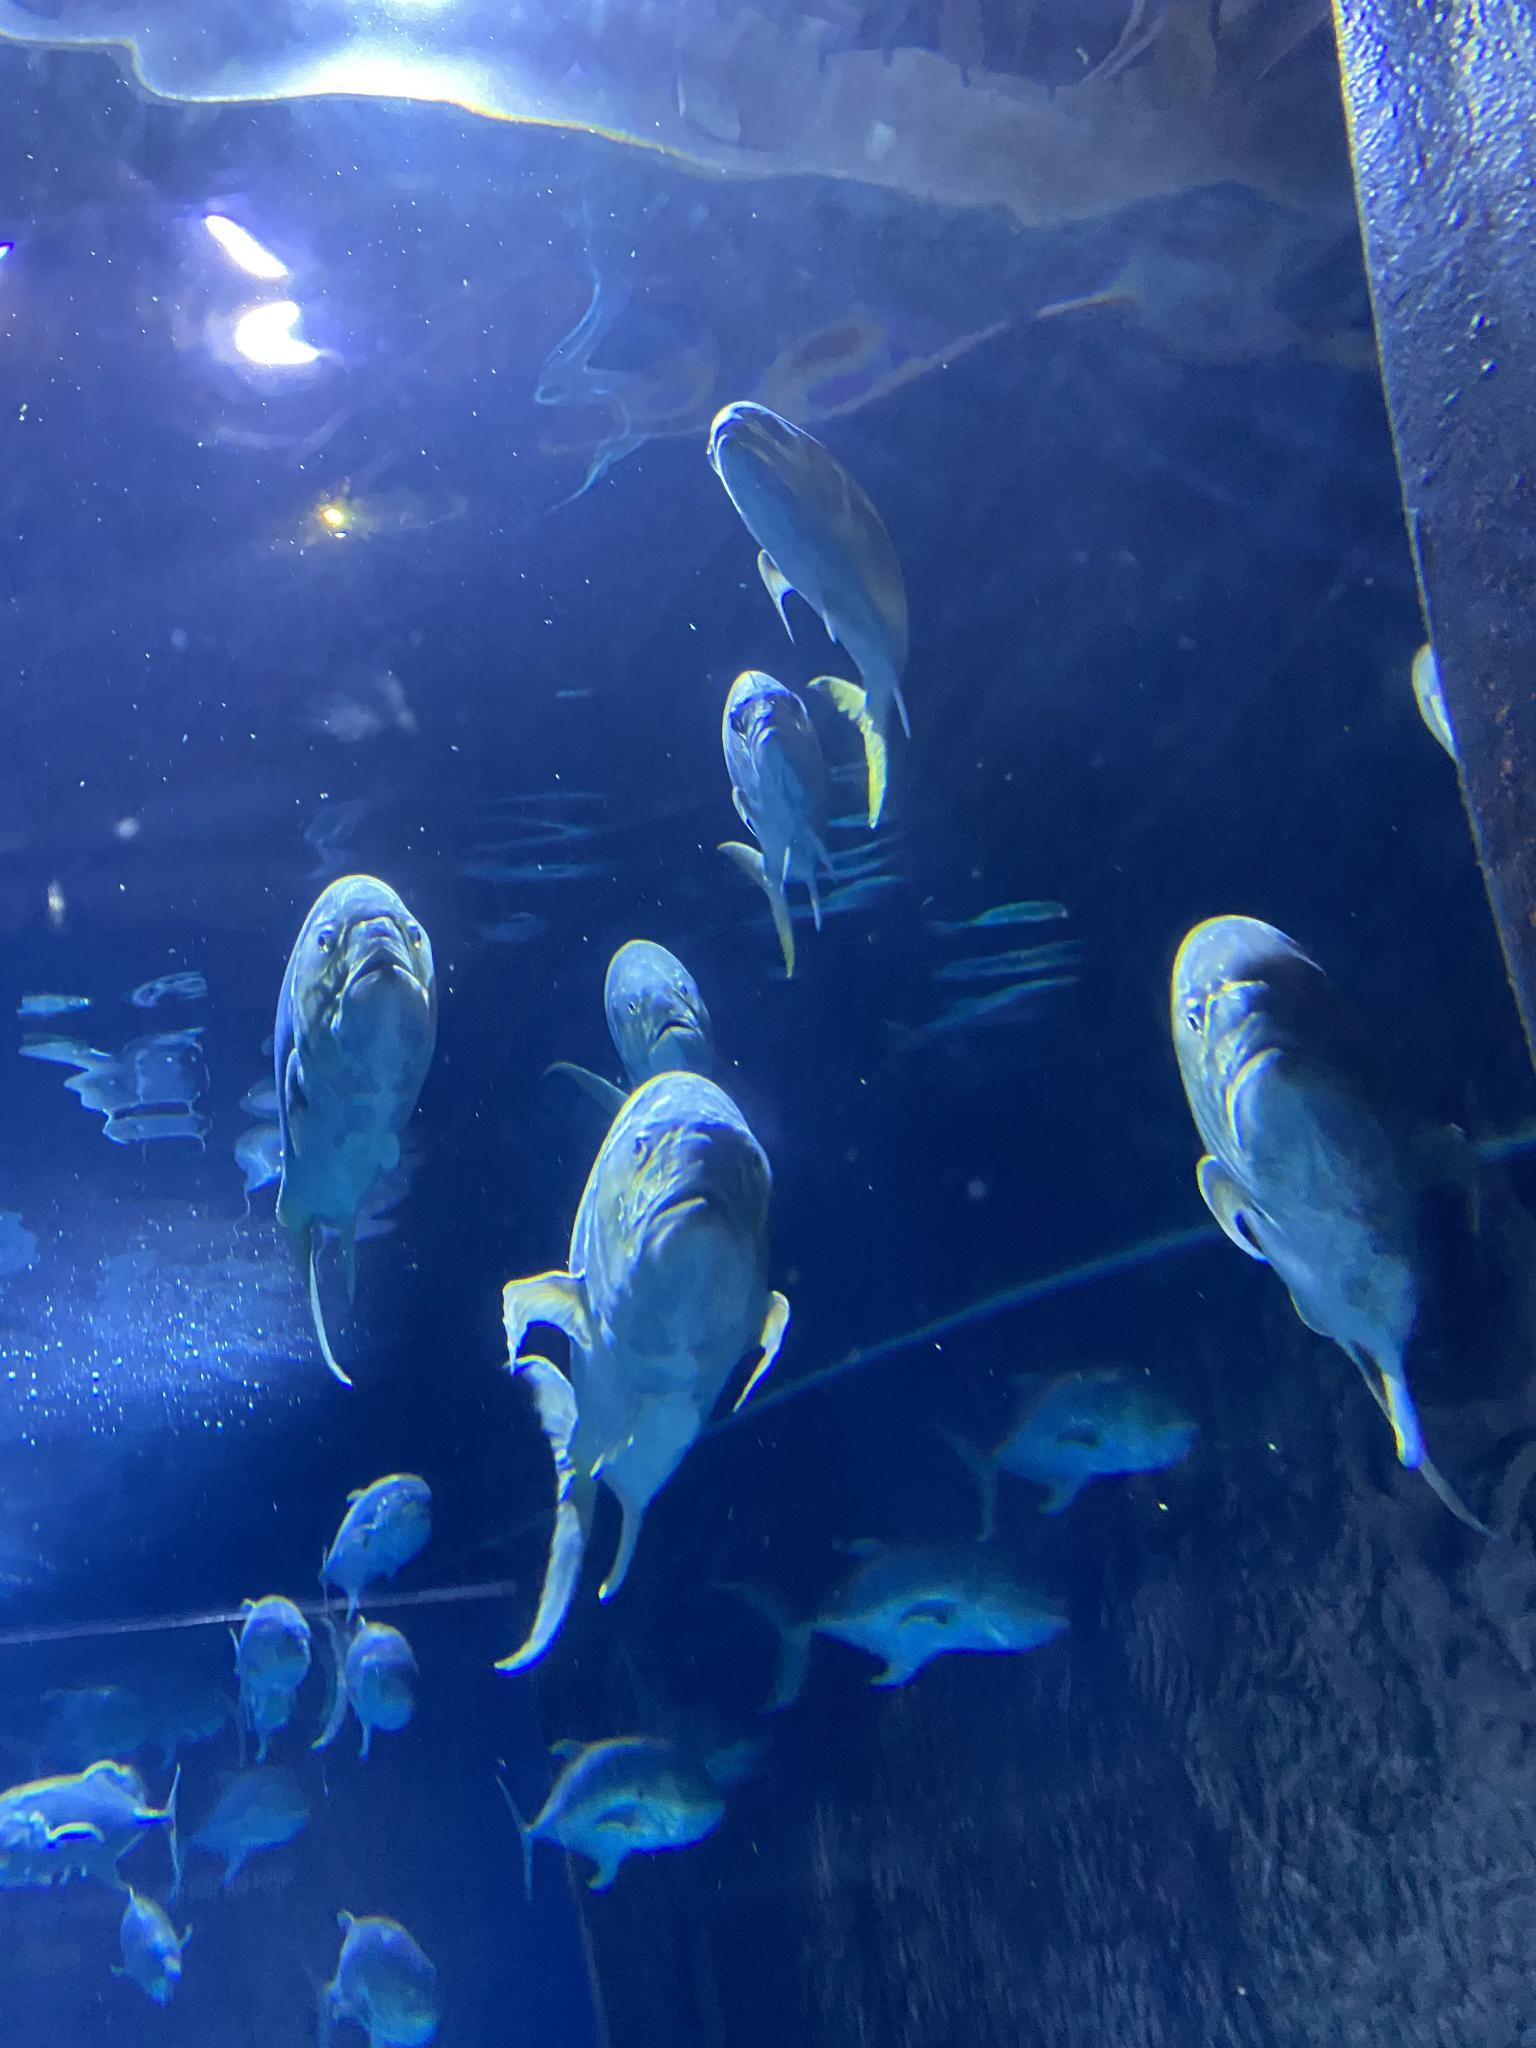fish: (494, 1071, 786, 1671), (1171, 913, 1442, 1464), (707, 402, 913, 827), (273, 876, 432, 1384), (710, 1543, 1066, 1709), (944, 1364, 1191, 1538), (716, 672, 833, 979), (492, 1742, 718, 1892), (552, 942, 716, 1122), (0, 1763, 186, 1900), (302, 1908, 442, 2046), (316, 1609, 424, 1763), (168, 1767, 308, 1879), (323, 1476, 432, 1617), (227, 1596, 311, 1758), (108, 1884, 190, 2009)
